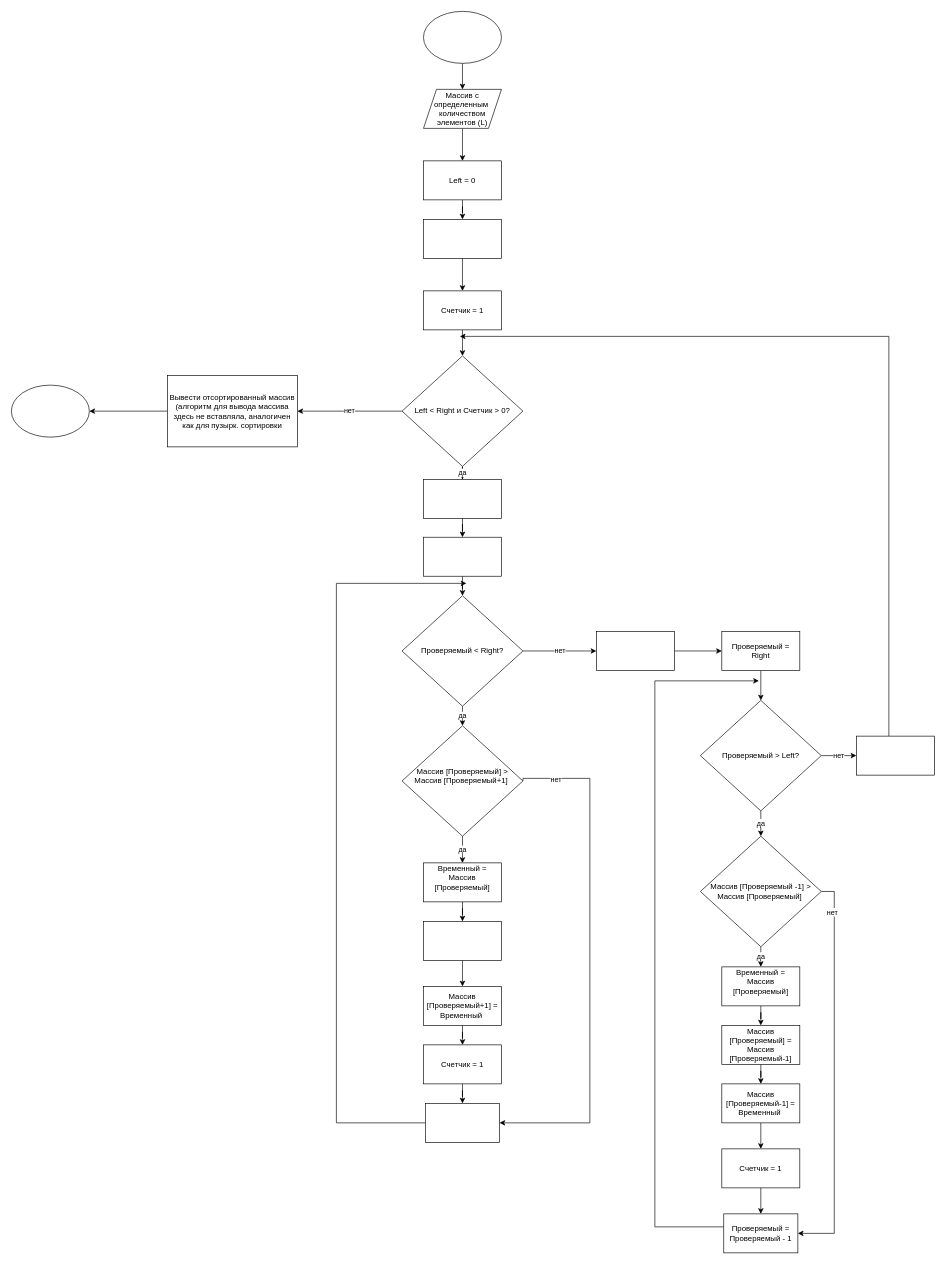
Some shapes in this 946 by 1264 pixel diagram are drawn without their labels. The centre of each missing label's shape, as x and y in pixels:
"Left = Left + 1" goes at (895,755).
"Right = L-1" goes at (462,238).
"Right = Right -1" goes at (635,650).
"Start" goes at (462,37).
"Stop" goes at (50,410).
"Массив [Проверяемый] = Массив [Проверяемый+1]" goes at (462,940).
"Проверяемый = Left" goes at (462,556).
"Проверяемый = Проверяемый + 1" goes at (462,1122).
"Счетчик = 0" goes at (462,498).
